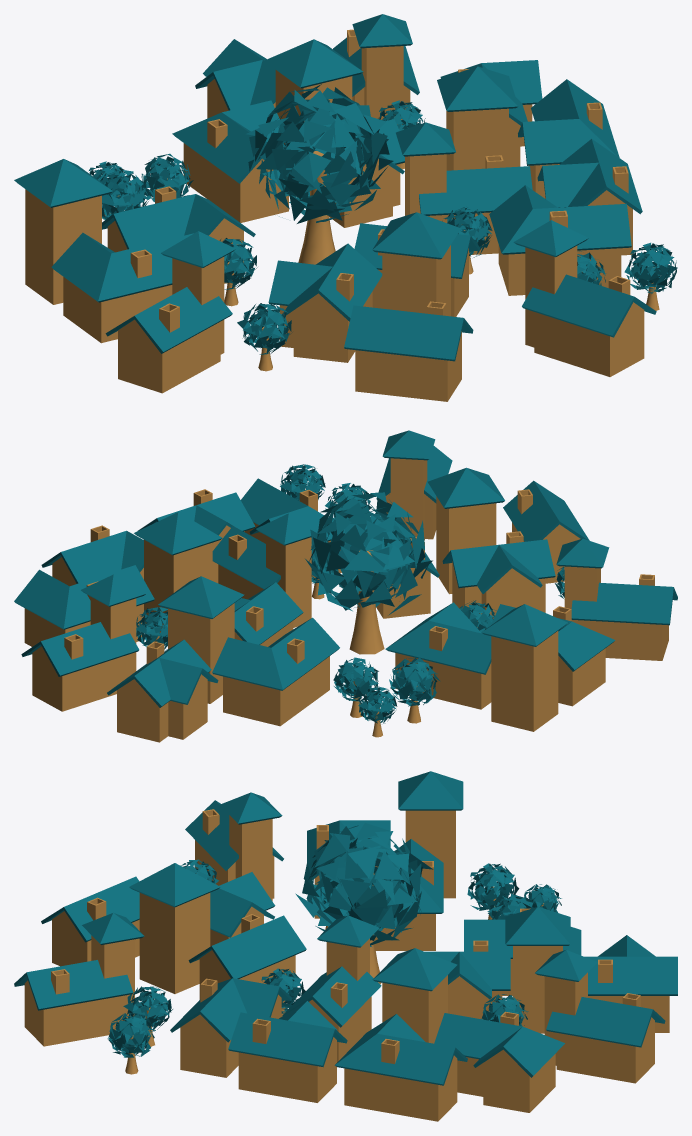
The model's file is village.FBX.
The picture shows the model from 3 angles, top to bottom: view 1: azimuth 30°, elevation 25°; view 2: azimuth 150°, elevation 25°; view 3: azimuth 270°, elevation 25°; orthographic projection. The views are drawn at different scales.
Parts seen in each view (by area): view 1: Cylinder001, Box005, Box007, Box014, Box009, Box013, Box017, Box015, Box003, Box016, Box012, Box018 (+17 smaller); view 2: Cylinder001, Box021, Box017, Box007, Box003, Box008, Box015, Box004, Box013, Box012, Box011, Box018 (+16 smaller); view 3: Box021, Cylinder001, Box005, Box020, Box019, Box002, Box012, Box007, Box016, Box015, Box008, Box001 (+16 smaller).
Part boxes in pixels (x1,y1,x2,y2): Cylinder001: (246, 84, 393, 264); Box005: (513, 220, 656, 376); Box007: (105, 231, 235, 393); Box014: (344, 301, 473, 401); Box009: (51, 232, 193, 343); Box013: (268, 243, 382, 362); Box017: (172, 100, 288, 222); Box015: (396, 122, 532, 254); Box003: (14, 159, 112, 304); Box016: (489, 185, 631, 295); Box012: (372, 212, 460, 316); Box018: (437, 66, 518, 170); Cylinder001: (305, 492, 432, 654); Box021: (21, 574, 146, 711); Box017: (212, 617, 339, 726); Box007: (556, 538, 677, 660); Box003: (481, 604, 567, 731); Box008: (107, 639, 218, 742); Box015: (212, 513, 318, 627); Box004: (385, 602, 491, 709); Box013: (442, 531, 555, 621); Box012: (427, 467, 504, 594); Box011: (158, 576, 244, 703); Box018: (134, 512, 222, 632); Box021: (535, 949, 665, 1083); Cylinder001: (295, 822, 433, 984); Box005: (14, 913, 144, 1046); Box020: (334, 1014, 467, 1121); Box019: (434, 1011, 564, 1112); Box002: (228, 1000, 347, 1102); Box012: (129, 863, 220, 993); Box007: (185, 792, 283, 901); Box016: (170, 978, 291, 1077); Box015: (282, 915, 381, 1062); Box008: (584, 935, 677, 1032); Box001: (188, 914, 306, 999).
Size of what is drawn, in the model's own units: 940 by 259 by 994.
